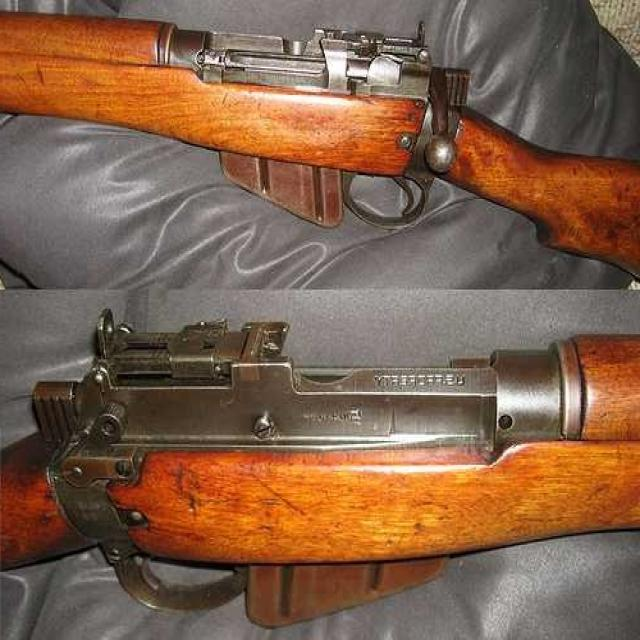heavyweapon: (1, 309, 640, 640), (1, 2, 640, 282)
